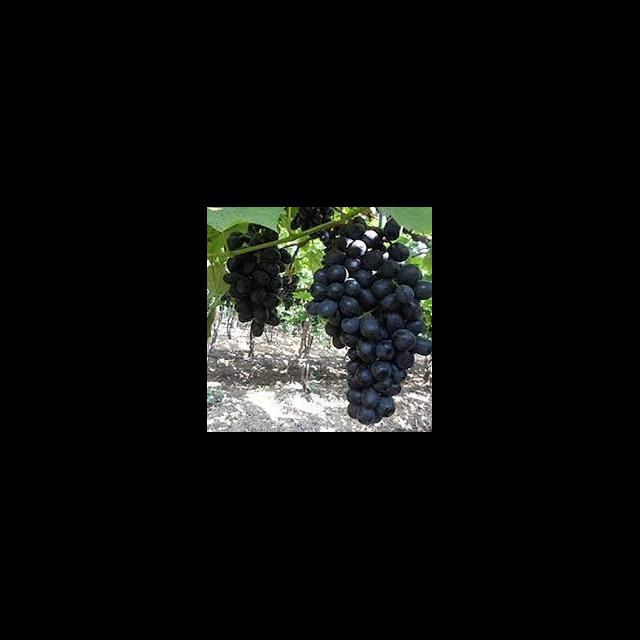grape: (306, 214, 432, 424), (222, 224, 298, 336)
